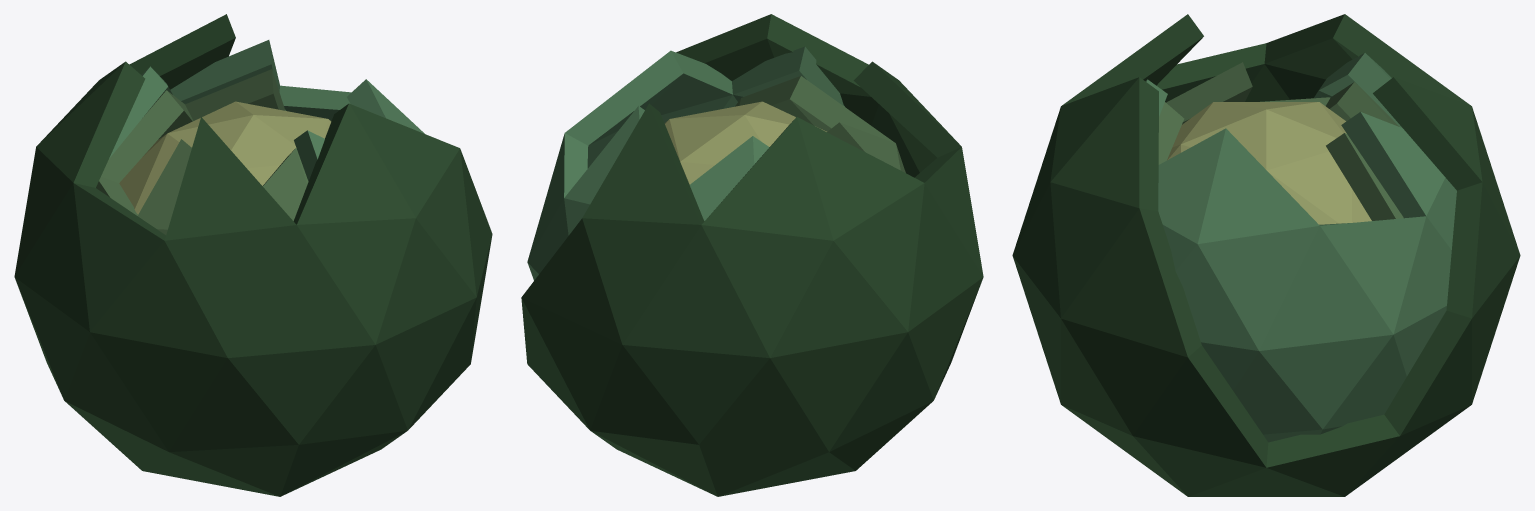
The model's file is Repollo.fbx.
The picture shows the model from 3 angles, left to right: view 1: azimuth 30°, elevation 25°; view 2: azimuth 150°, elevation 25°; view 3: azimuth 270°, elevation 25°; orthographic projection. The views are drawn at different scales.
Visible parts, largest first — view 1: Repollo; view 2: Repollo; view 3: Repollo.
Part boxes in pixels (x1,y1,x2,y2): Repollo: (14,14,492,496); Repollo: (521,14,983,496); Repollo: (1012,14,1520,496).
Size of the model in its own units: 16345 by 15903 by 17186.
